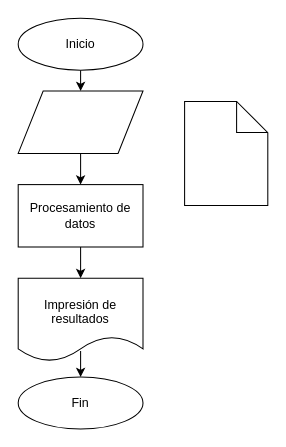
This 286x447 diagram has some shape labels left out. The centre of each missing label's shape, as x and y in pixels:
"Comentario" goes at point (226, 152).
"Lectura de datos" goes at point (80, 121).
